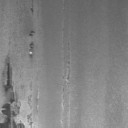slag inclusion: (2, 55, 26, 128), (27, 42, 35, 61), (27, 30, 36, 38), (30, 2, 35, 14)
